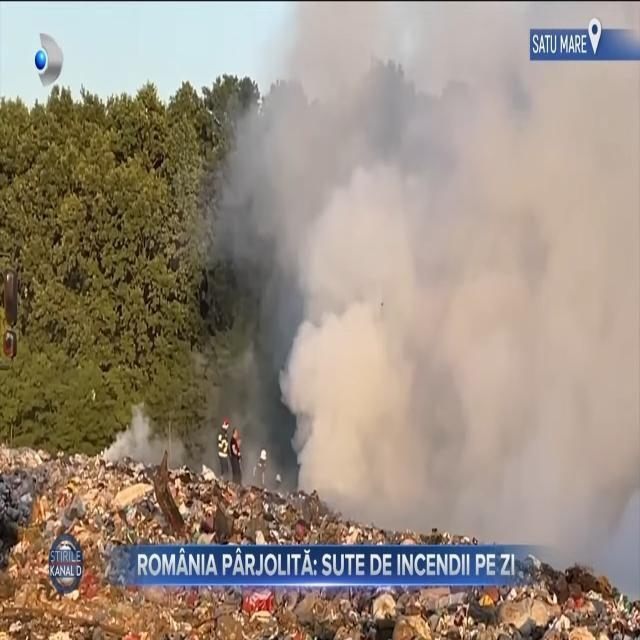Smoke: (186, 28, 640, 528)
